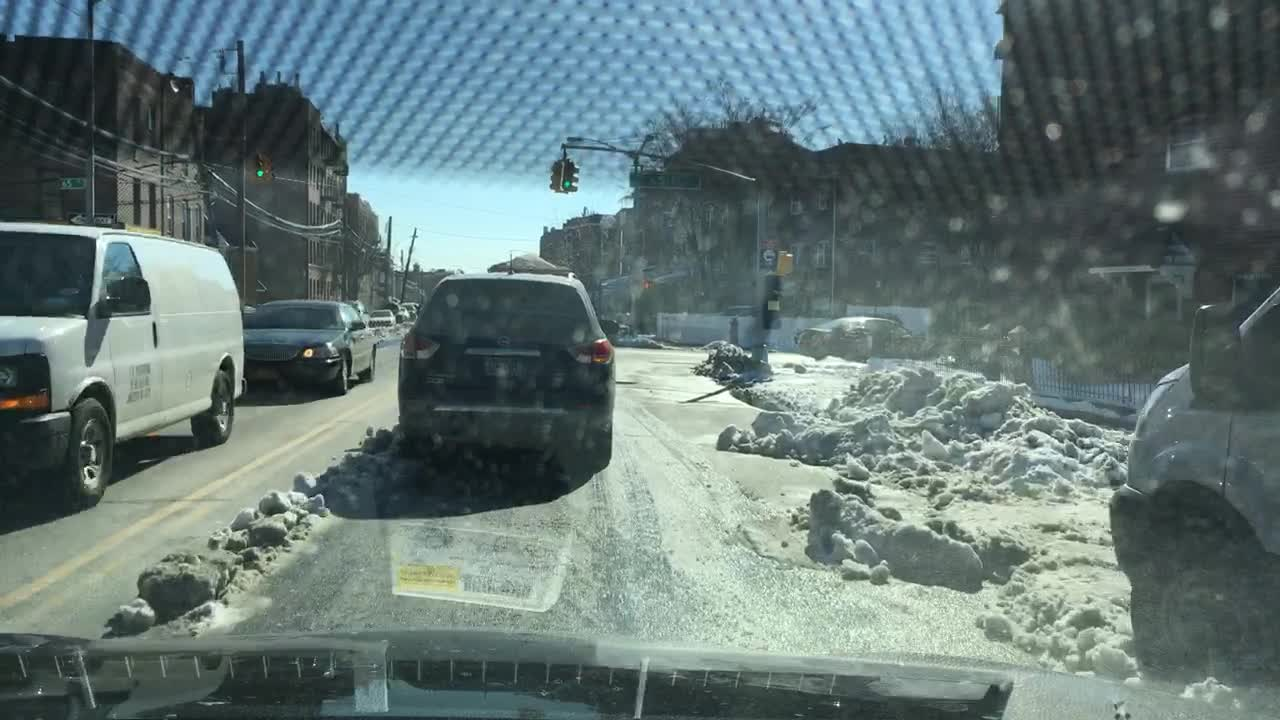car: (0, 218, 248, 512), (1107, 274, 1276, 684), (396, 270, 617, 466), (244, 297, 376, 400), (794, 313, 904, 360), (369, 302, 398, 331), (599, 318, 634, 337), (401, 289, 423, 316), (388, 299, 411, 319)
traffic light: (550, 157, 566, 194), (565, 159, 580, 194), (776, 247, 793, 275), (255, 151, 264, 181), (637, 278, 653, 293), (265, 152, 273, 181)
traffic sign: (630, 172, 700, 188), (57, 174, 89, 189), (759, 246, 774, 268)
